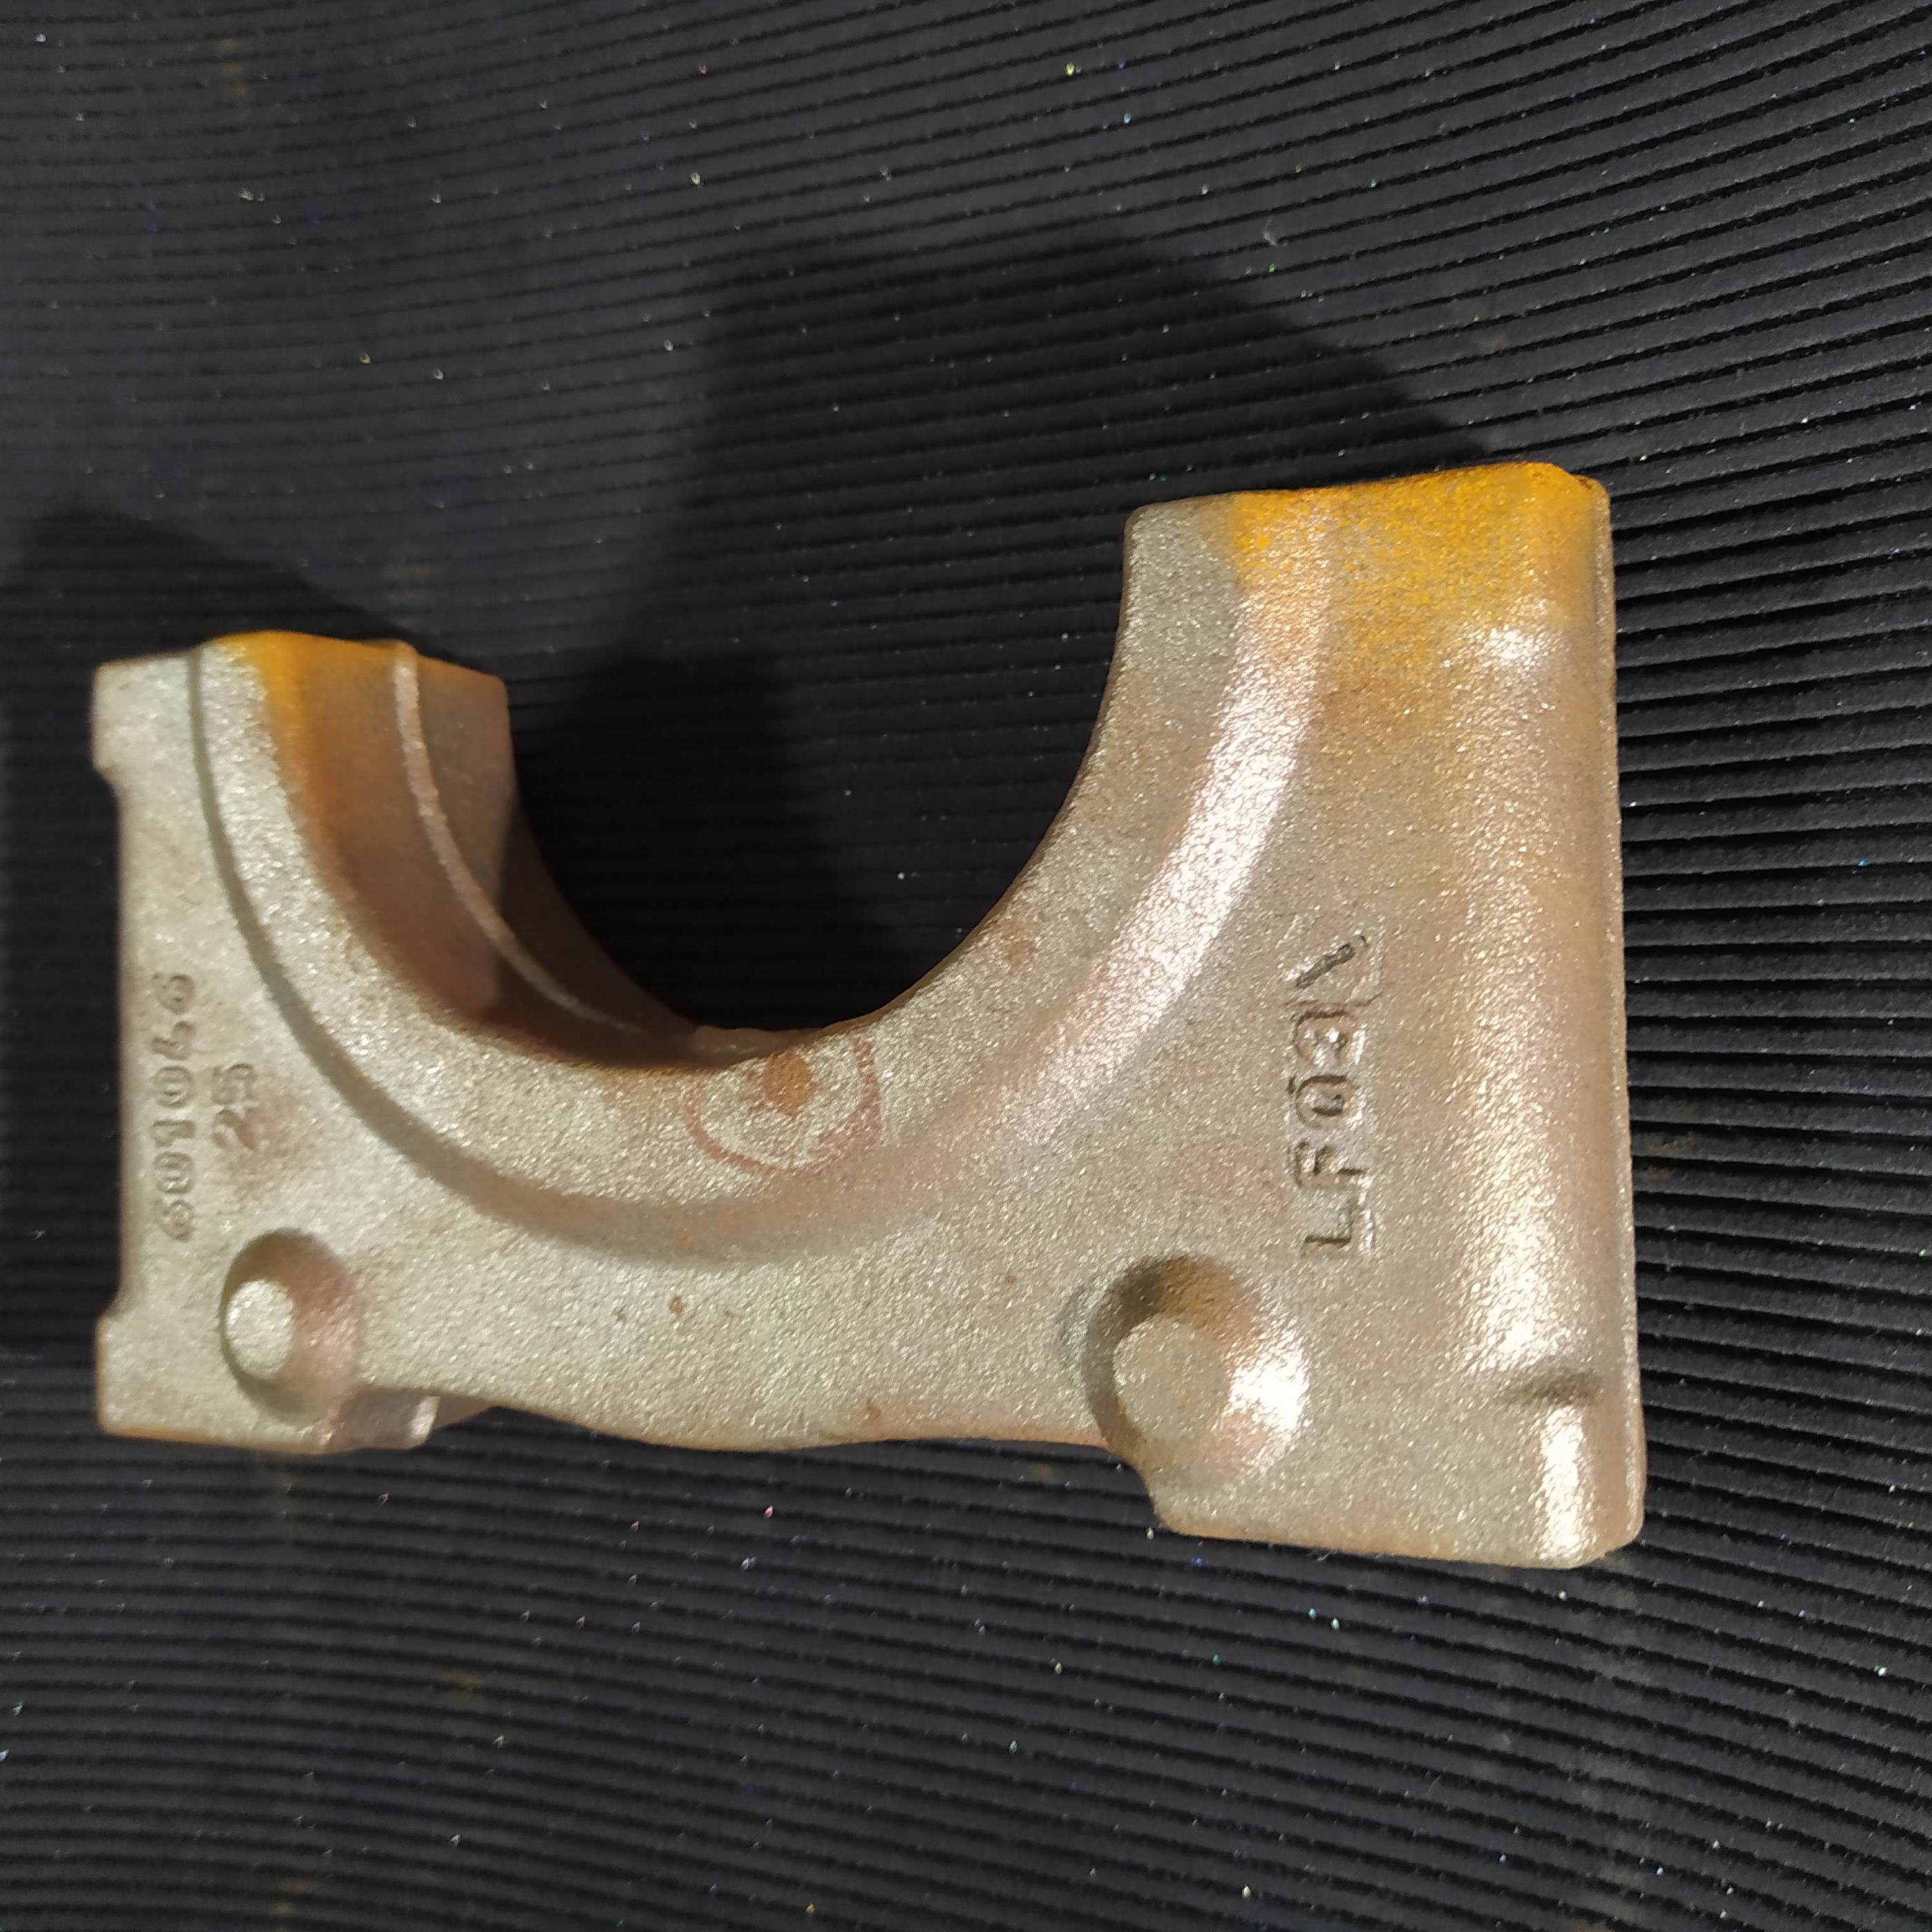mancha (ferrugem): (759, 1049, 819, 1120)
